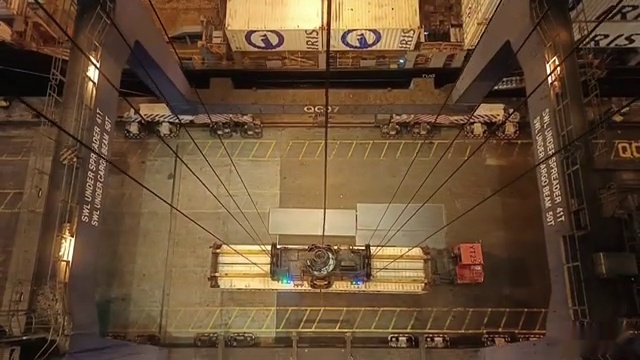container: (202, 240, 470, 295), (221, 0, 426, 55), (206, 0, 435, 25), (213, 0, 439, 24), (214, 0, 430, 22), (213, 0, 437, 14), (210, 0, 440, 12), (219, 1, 418, 11)
guide_mark: (58, 309, 544, 333), (109, 141, 537, 161)
spreader: (201, 240, 439, 299)
target_slot: (191, 236, 456, 298)
